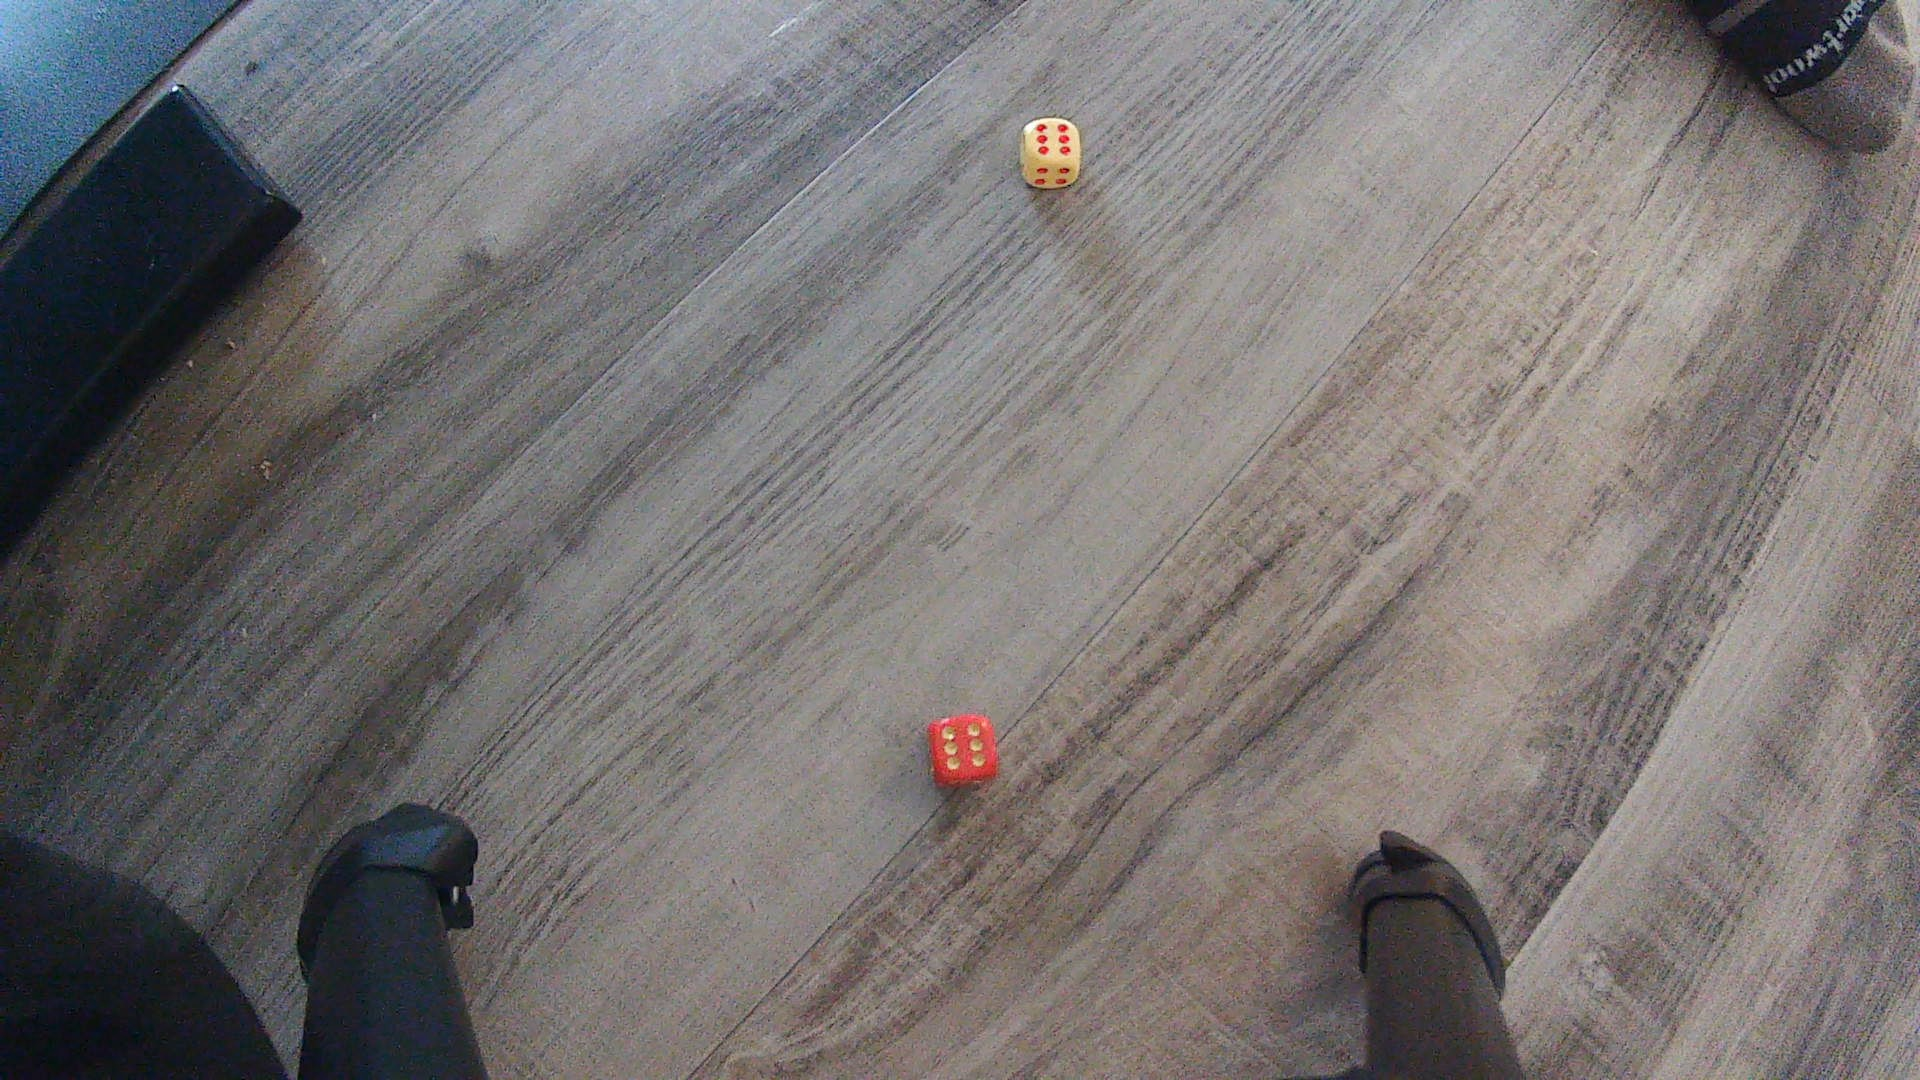die: (926, 712, 1001, 791), (1021, 116, 1083, 191)
